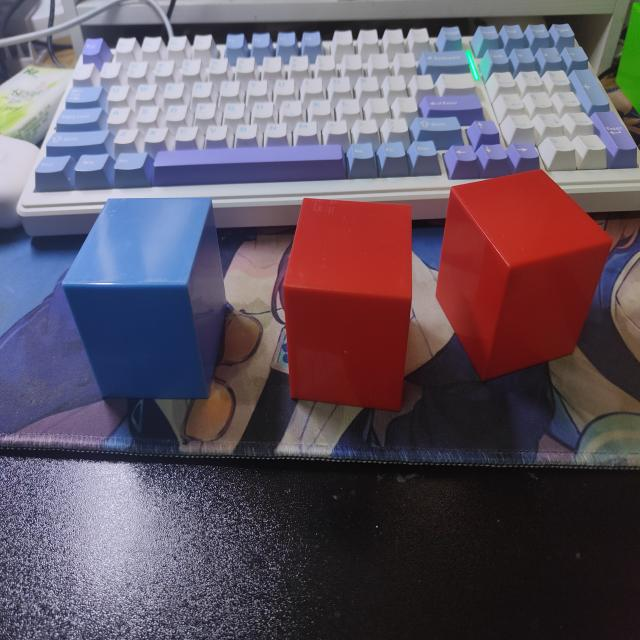blue: (60, 197, 232, 403)
red: (436, 167, 614, 379), (278, 199, 415, 414)
